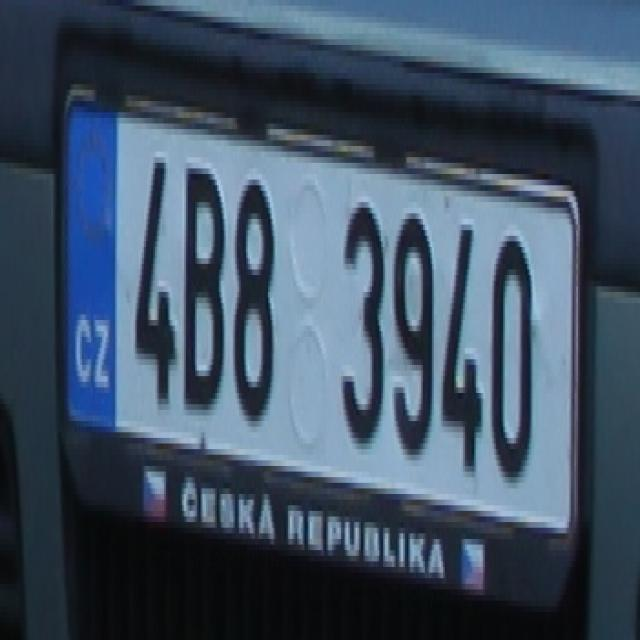0: (490, 230, 534, 483)
3: (339, 202, 381, 444)
4: (441, 213, 489, 483), (133, 146, 179, 410)
8: (230, 163, 274, 415)
9: (388, 202, 431, 455)
B: (177, 146, 224, 410)
